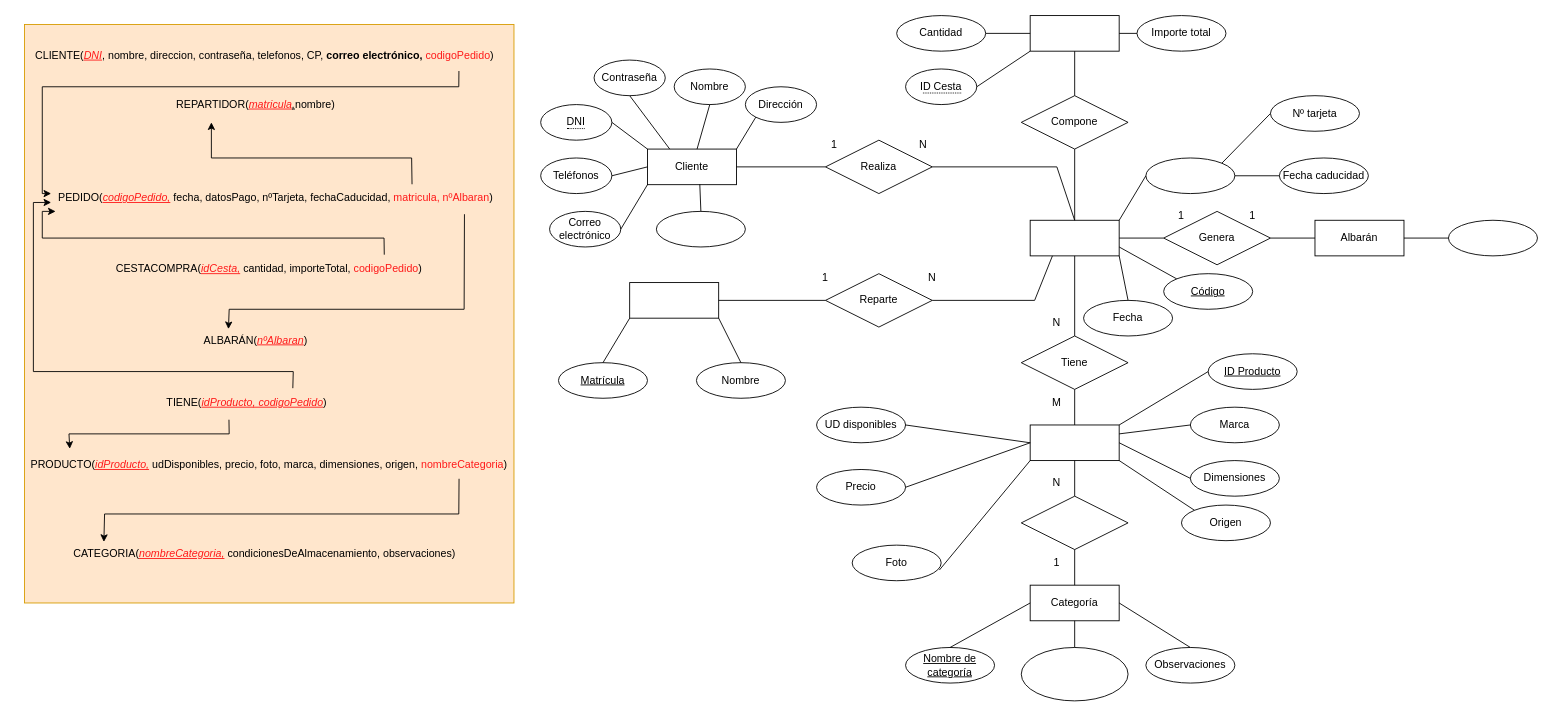
Some shapes in this 1553 by 716 pixel diagram are drawn without their labels. Each missing label, with the centre of its shape:
Cesta_Compra: point (1074, 33)
Condiciones de almacenamiento: point (1074, 674)
Código postal: point (700, 228)
Datos de pago: point (1190, 175)
Nº Albarán: point (1492, 237)
Pedido: point (1074, 237)
Pertenece: point (1074, 522)
Producto: point (1074, 442)
Repartidor: point (674, 300)
